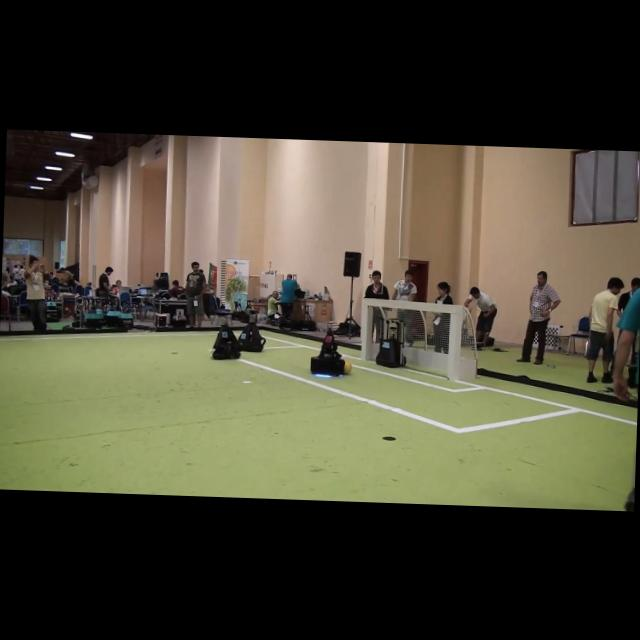ball: (343, 360, 351, 374)
goal: (447, 306, 462, 380), (360, 298, 367, 359)
robot: (310, 324, 345, 375), (375, 316, 405, 367), (211, 312, 240, 359), (238, 310, 266, 351)
